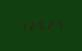five: (36, 20, 44, 30)
seven: (18, 21, 26, 31), (54, 19, 62, 29)
two: (27, 20, 35, 31), (45, 19, 53, 30)
